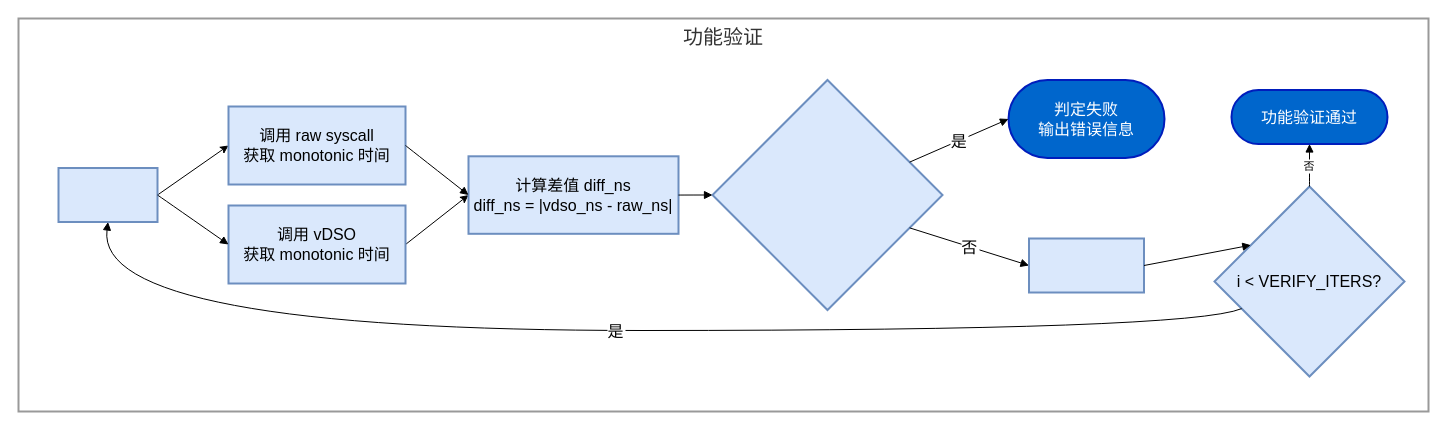
This 1446x429 diagram has some shape labels left out. The centre of each missing label's shape, as x and y in pixels:
diff_us > threshold_us?: point 827,194
i ← 0: point 107,194
i ← i+1: point 1086,265
